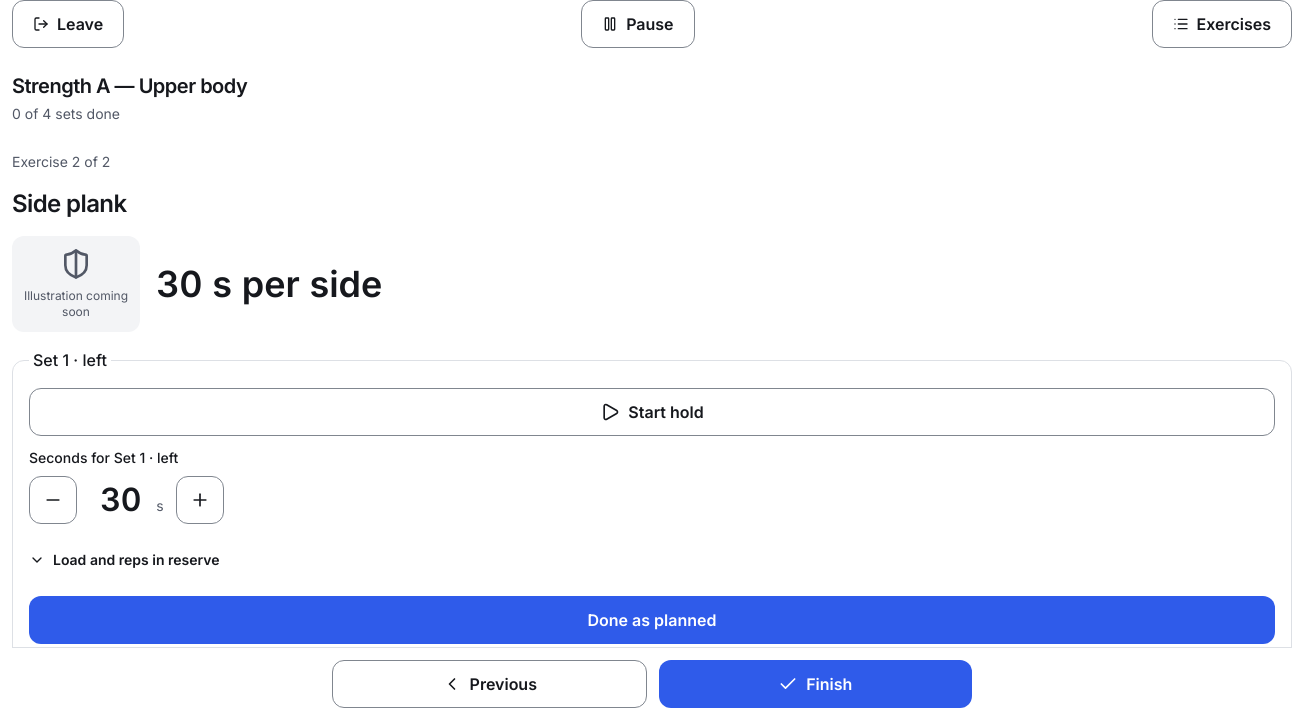
Test: WorkoutScreen rest timer (D39, D43, D47, D48) › D43: no rest after the left side, nor after the last set of the workout
The image size is (1304, 720).
What coordinates should you click on to do the following:
click the button "Done as planned"
I would click on:
 (652, 620)
Its box is [29,596,1275,644].
(page scrolled)
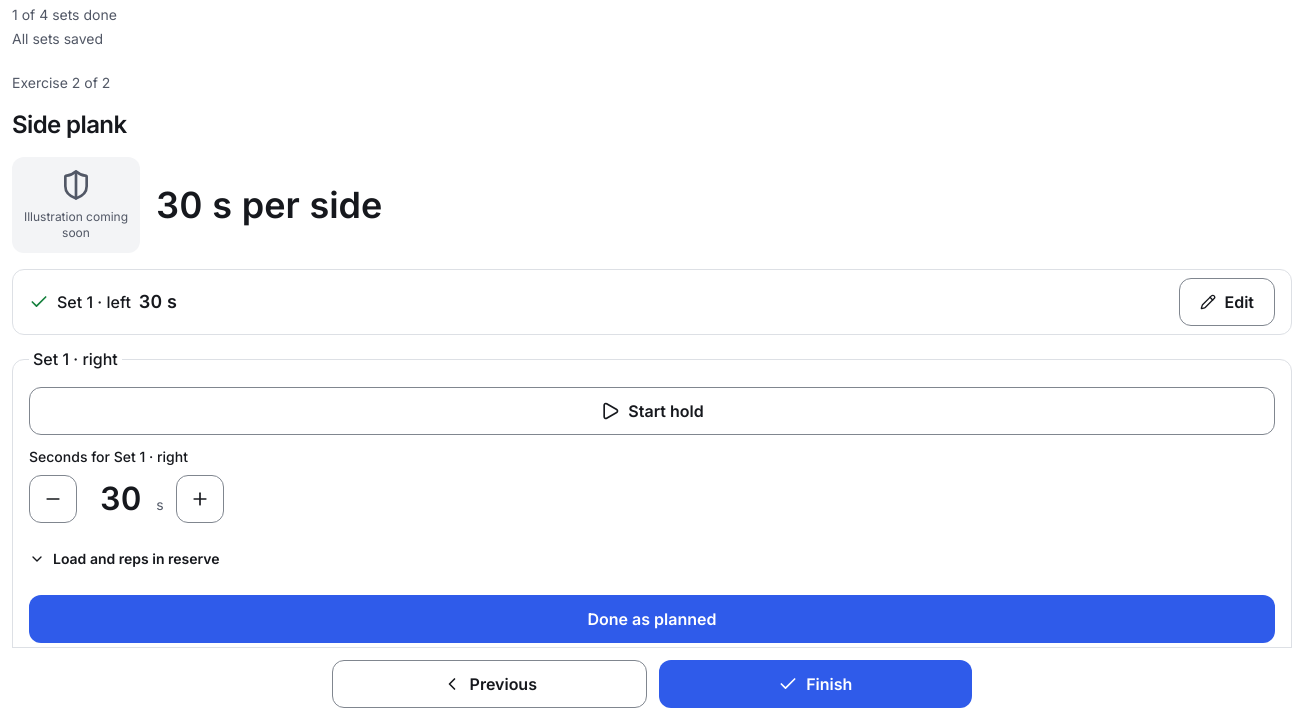
What coordinates should you click on to do the following:
click the button "Done as planned"
I would click on:
 (652, 619)
Its box is [29,595,1275,643].
(page scrolled)
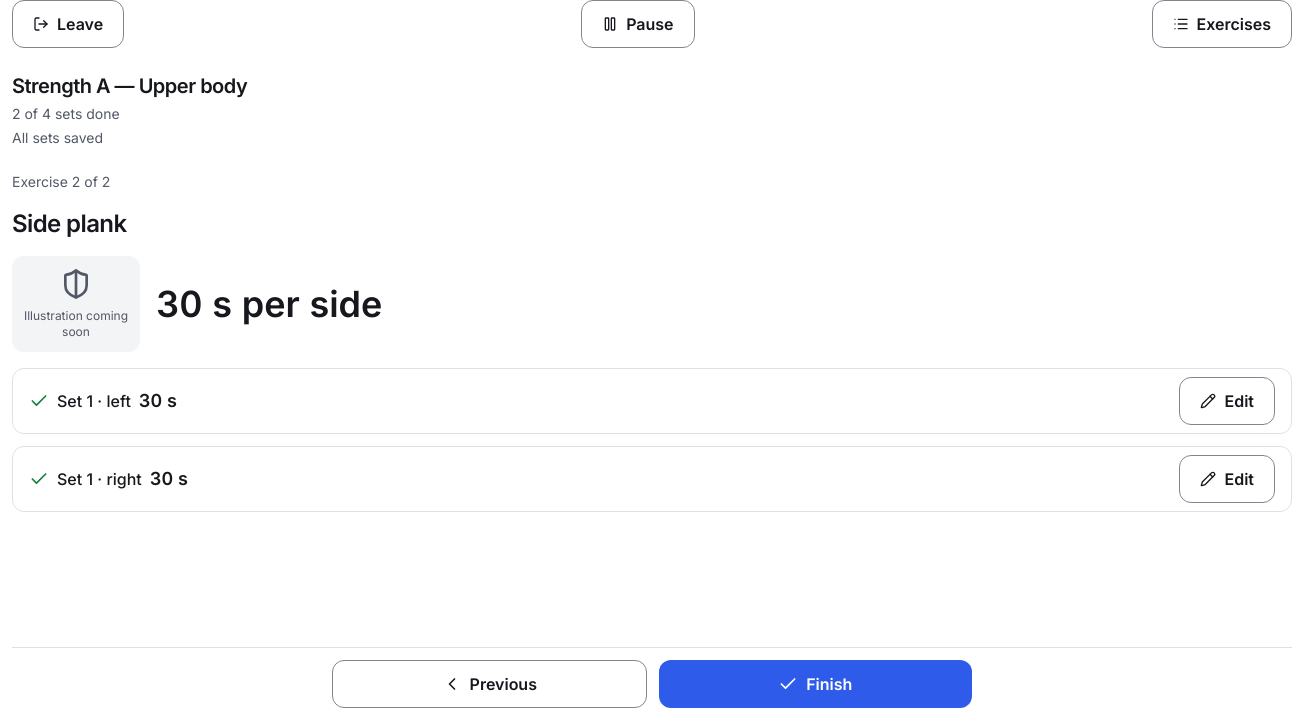
Now the text "2 of 4 sets done" is shown, box [12,105,120,122]
